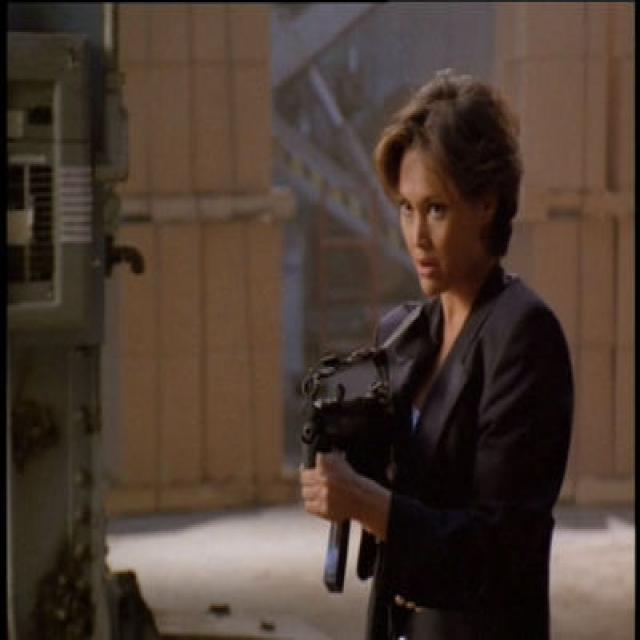rifle: (296, 345, 410, 599)
